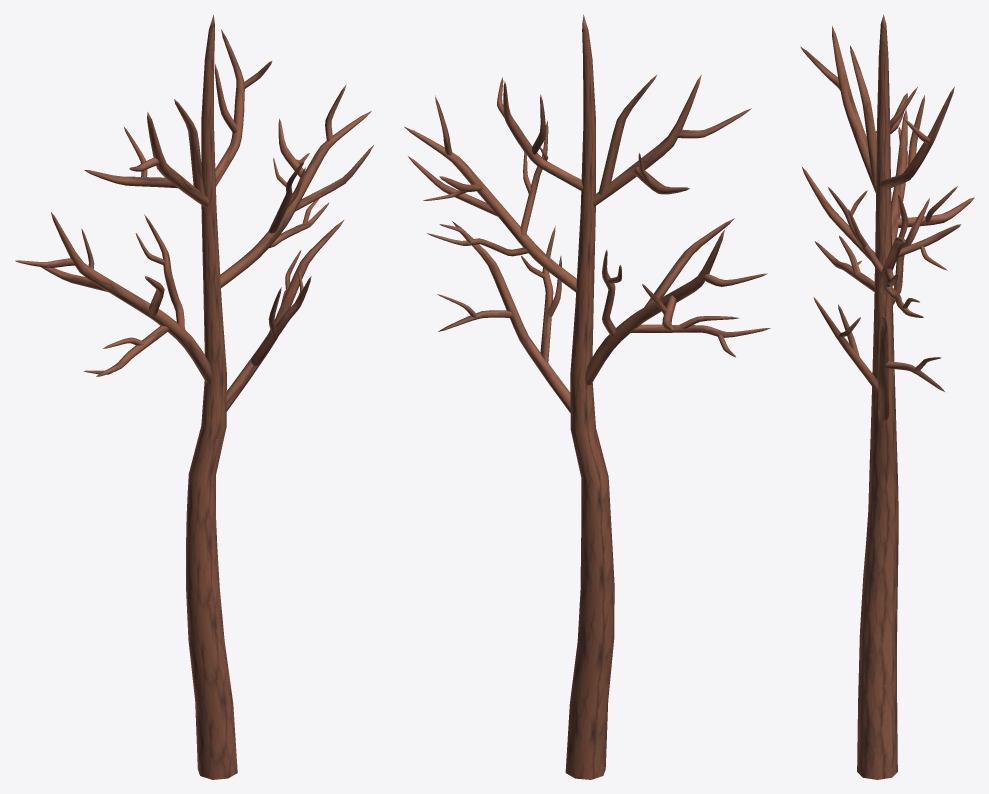
Rendered from DeadTree_1.glb.
3 views of the same model, side by side, from view 1: azimuth 30°, elevation 25°; view 2: azimuth 150°, elevation 25°; view 3: azimuth 270°, elevation 25° (orthographic).
Bounding box in the file's own units: 3.09 × 6.2 × 1.3.
1 material, 1 textured.
